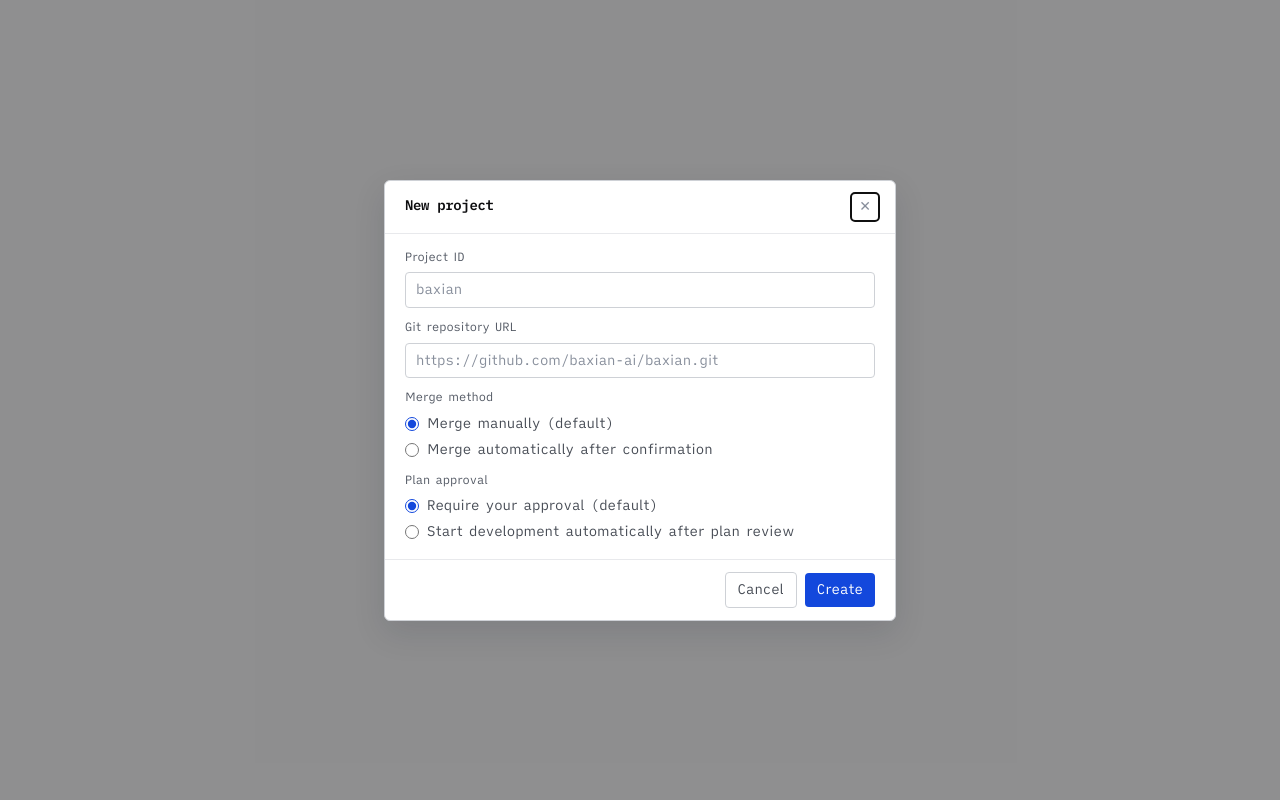
Test case: surfaces the server-side repository validation error
The image size is (1280, 800).
Type "newproj" into the field labelled "Project ID" at (640, 290), box [405,272,875,308]
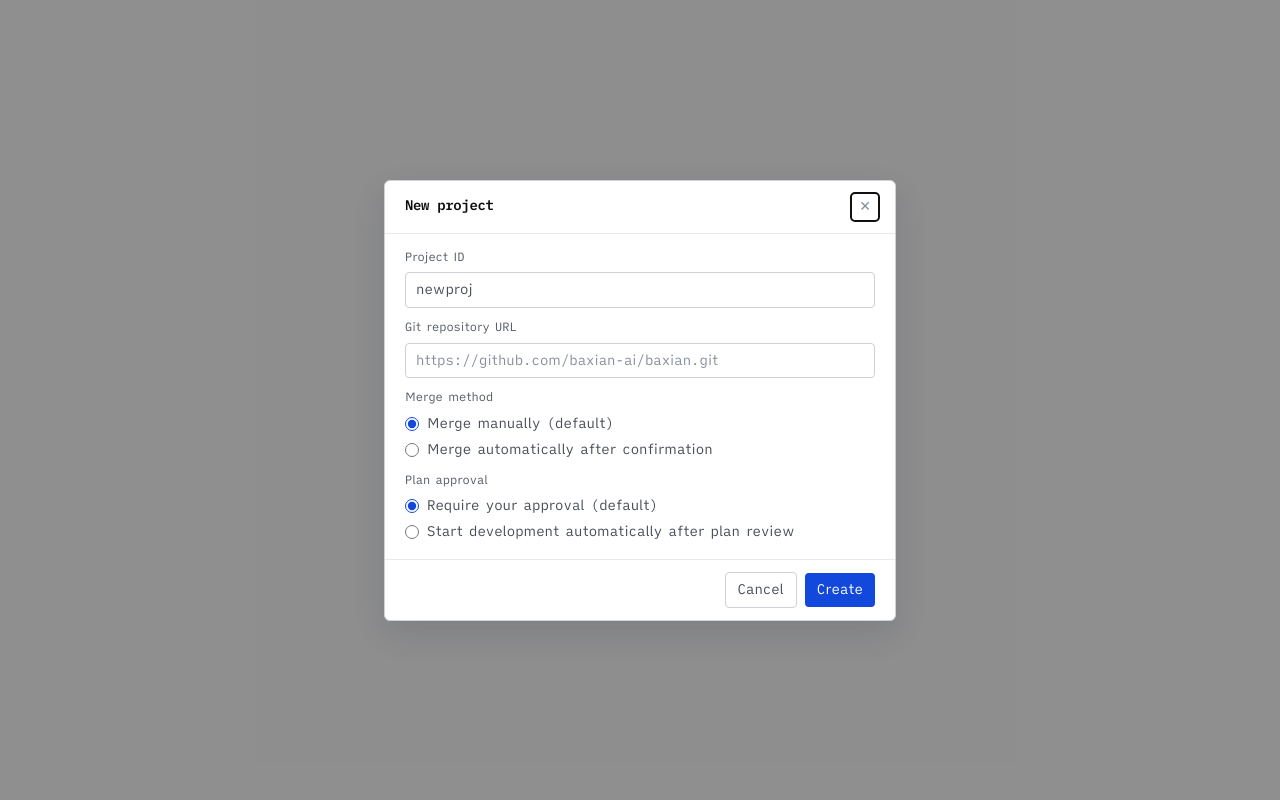
Type "justaname" into the field labelled "Git repository URL" at (640, 361), box [405,343,875,378]
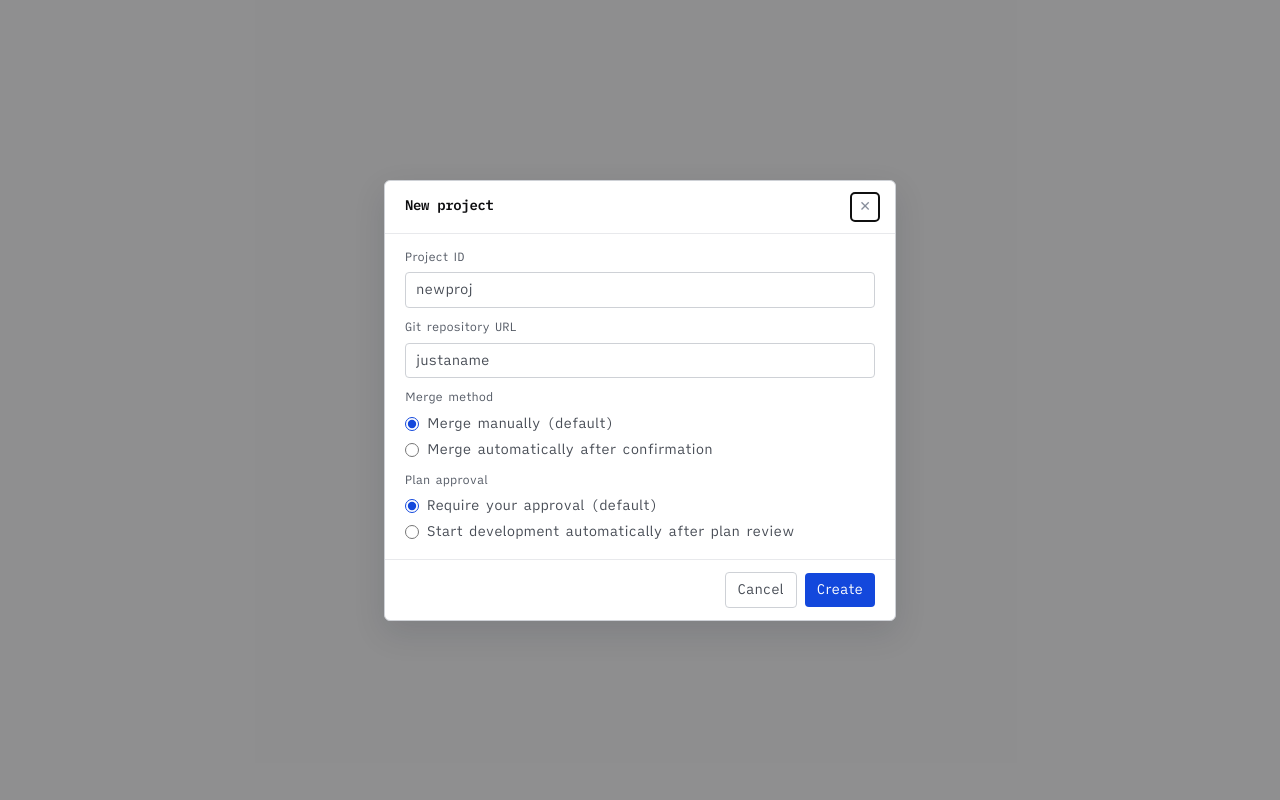
Click the button "Create" at (840, 590), box [805,573,875,606]
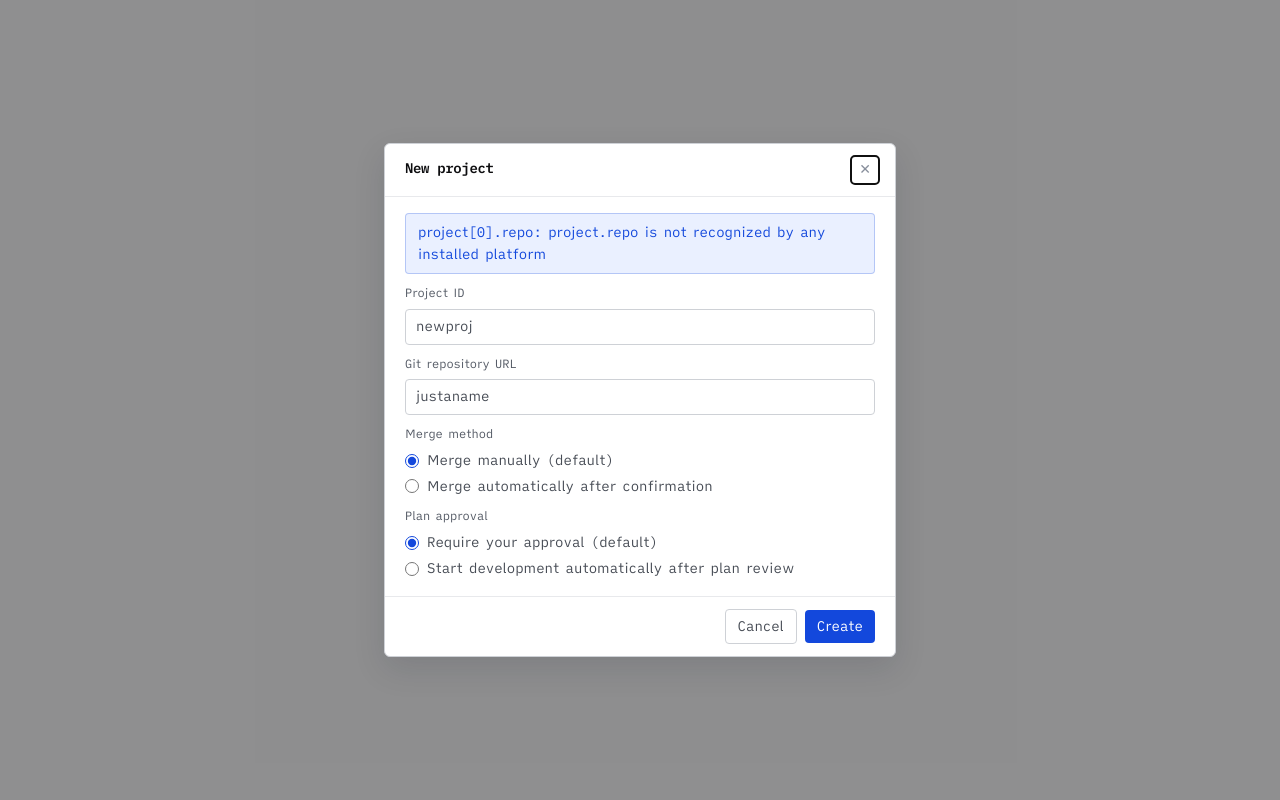
expect the text "not recognized by any installed platform" is shown: met, box [418,223,825,262]
